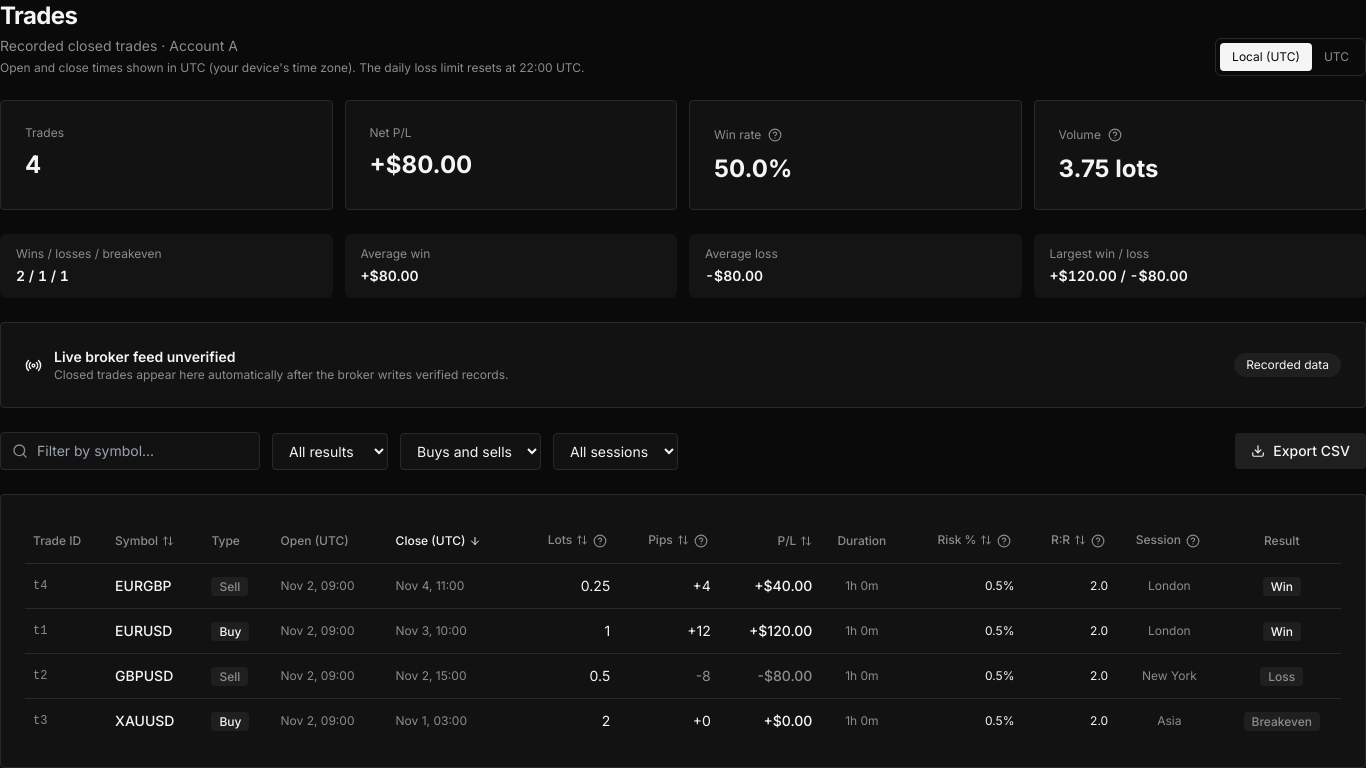
Test: trades page › shows a clear-filters action when nothing matches
The width and height of the screenshot is (1366, 768).
Type "BTC" into the field labelled "Filter by symbol".
click(130, 451); type("BTC")  # box [0,432,260,470]
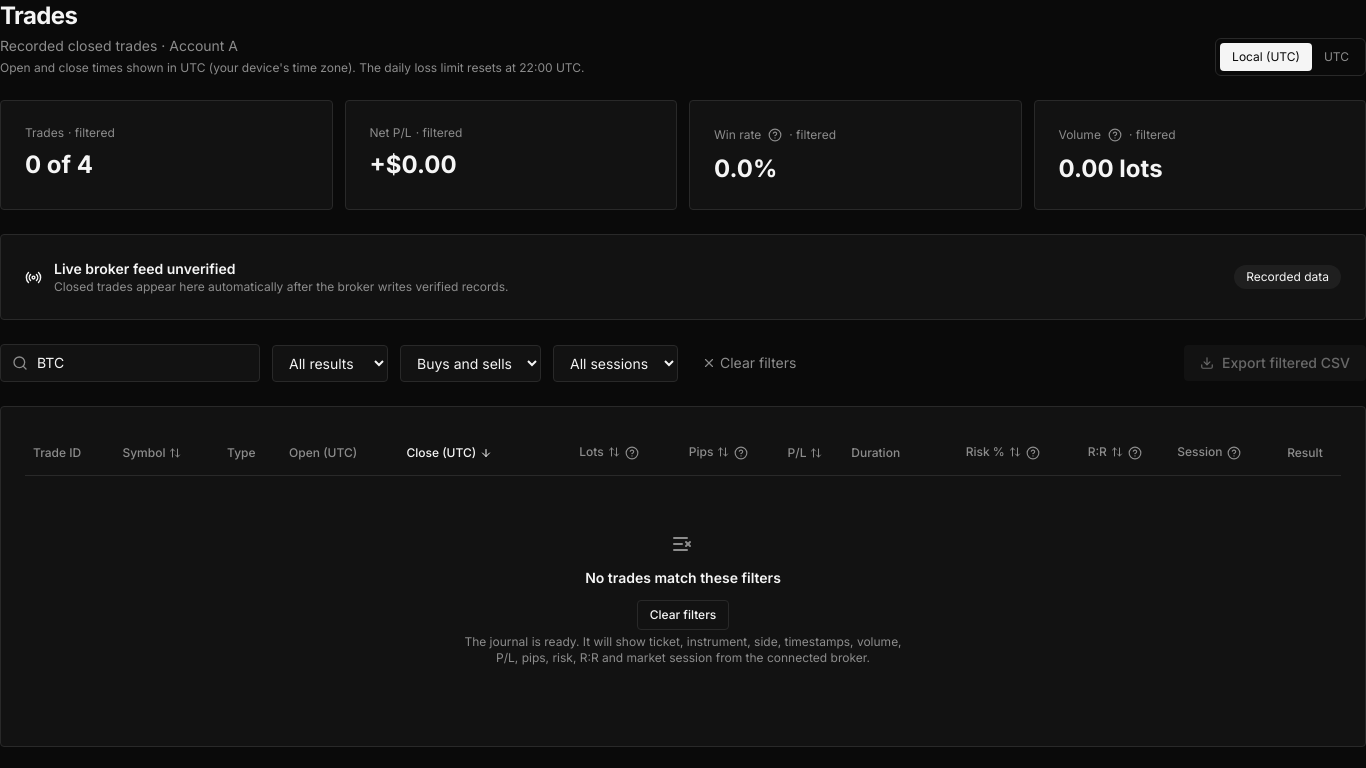
Expected: the text "No trades match these filters" is shown, [585,569,781,586]
Expected: the number of buttons "Clear filters" is 2, [690,345,808,381]; [637,600,729,630]
